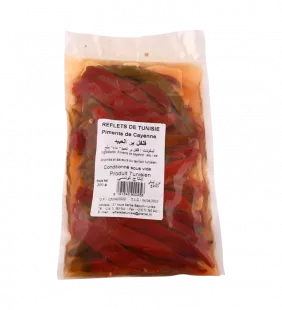REFLET: (51, 20, 236, 285)
